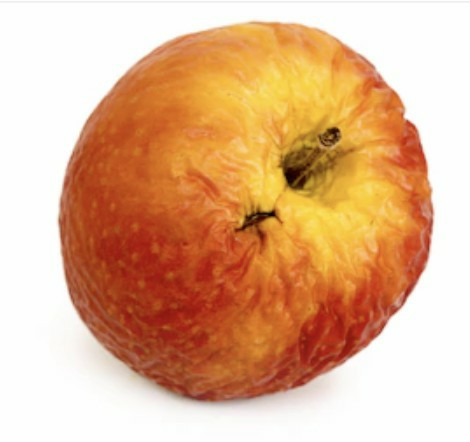rotten_apple: (59, 21, 435, 400)
